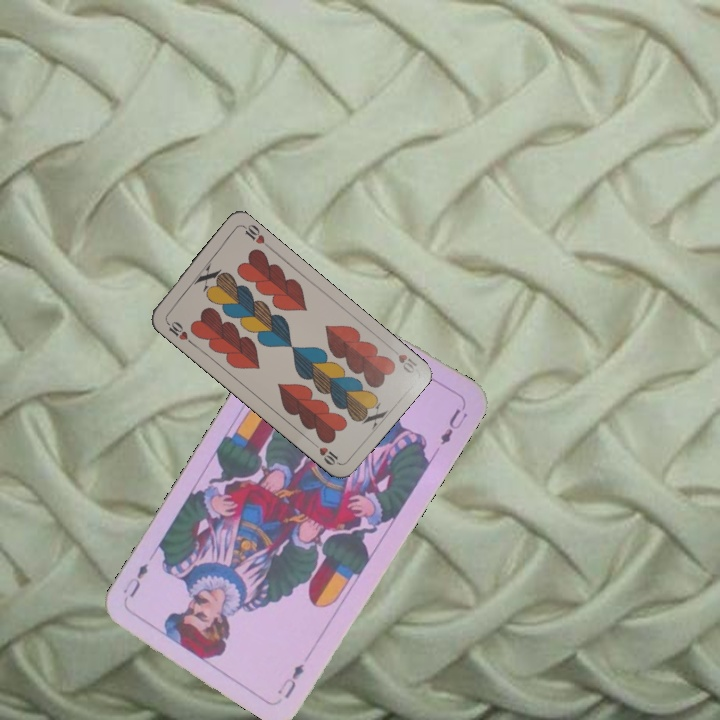EU: (273, 659, 307, 701)
H10: (385, 342, 420, 376), (162, 316, 195, 347)
